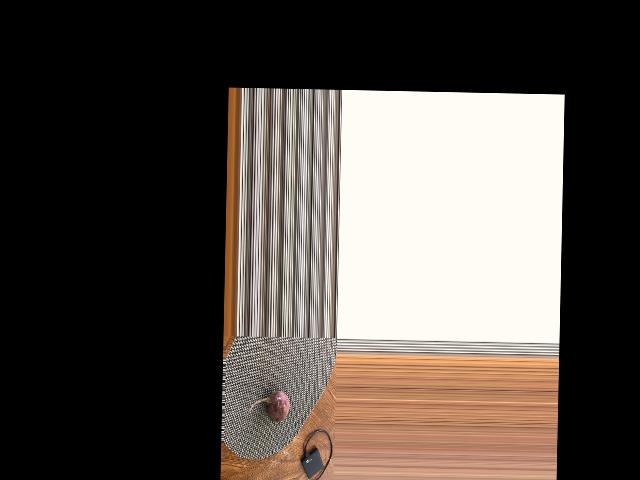beet: (248, 390, 289, 422)
